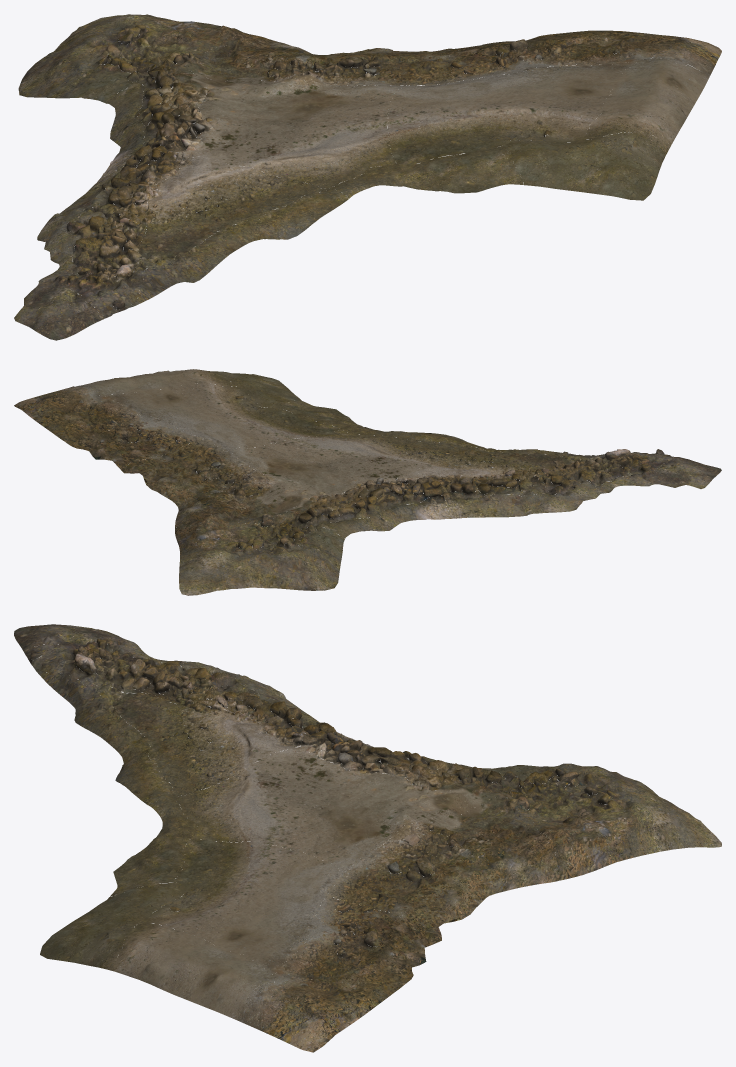
Rendered from CoastRock.fbx.
3 views of the same model, one above another, from view 1: azimuth 30°, elevation 25°; view 2: azimuth 150°, elevation 25°; view 3: azimuth 270°, elevation 25° (orthographic). The views are drawn at different scales.
Parts seen in each view (by area): view 1: CoastRockScan; view 2: CoastRockScan; view 3: CoastRockScan.
Part boxes in pixels (x1,y1,x2,y2): CoastRockScan: (14,14,721,340); CoastRockScan: (14,369,721,595); CoastRockScan: (14,624,721,1052).
Size of the model in its own units: 5950 by 330 by 4252.
